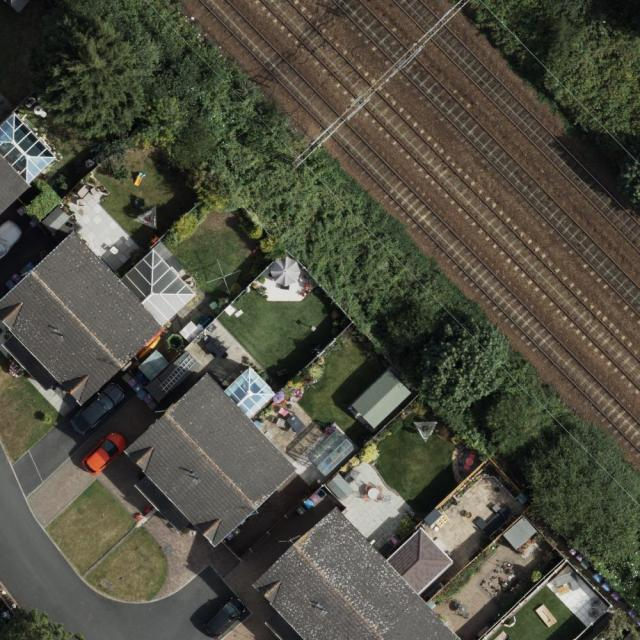roof: (1, 229, 198, 407), (124, 365, 299, 546), (252, 504, 465, 640), (1, 111, 59, 212)
skylight: (113, 246, 199, 325), (0, 111, 57, 187), (222, 363, 275, 420)
